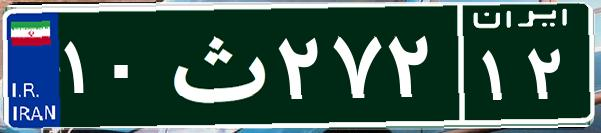0: (110, 28, 158, 105)
1: (57, 26, 110, 107), (475, 38, 525, 113)
2: (385, 28, 445, 110), (273, 28, 330, 110), (525, 38, 570, 115)
7: (330, 28, 385, 110)
ث: (158, 15, 273, 115)
